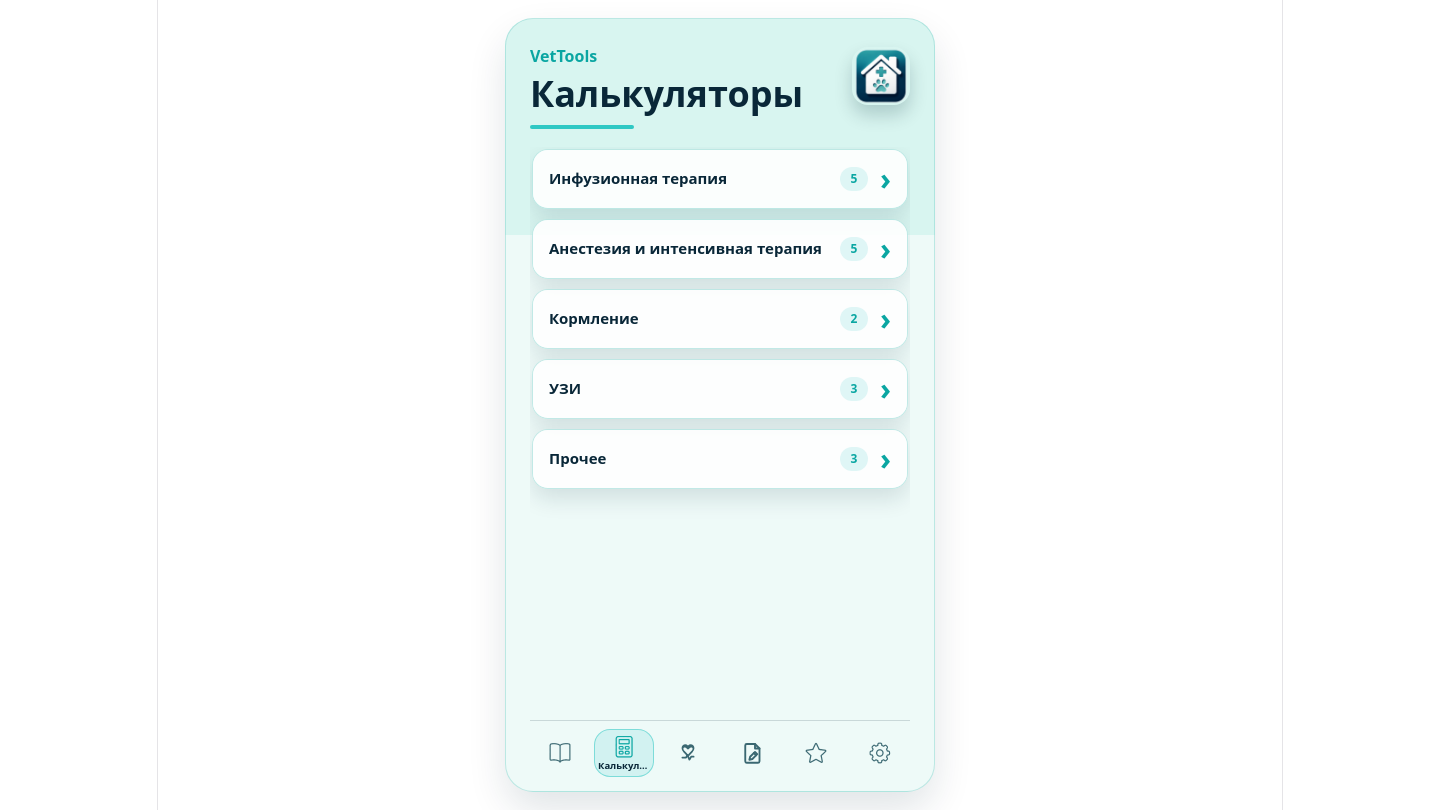
App routes › renders redesigned home page by /home route without replacing the root draft
Expected: the heading "Калькуляторы" is shown, [530, 76, 780, 129]
Expected: the link named "Справочник" is shown, [548, 741, 572, 765]
Step 1. Click the button "Инфузионная терапия 5 ›" → (720, 179), box [533, 150, 907, 208]
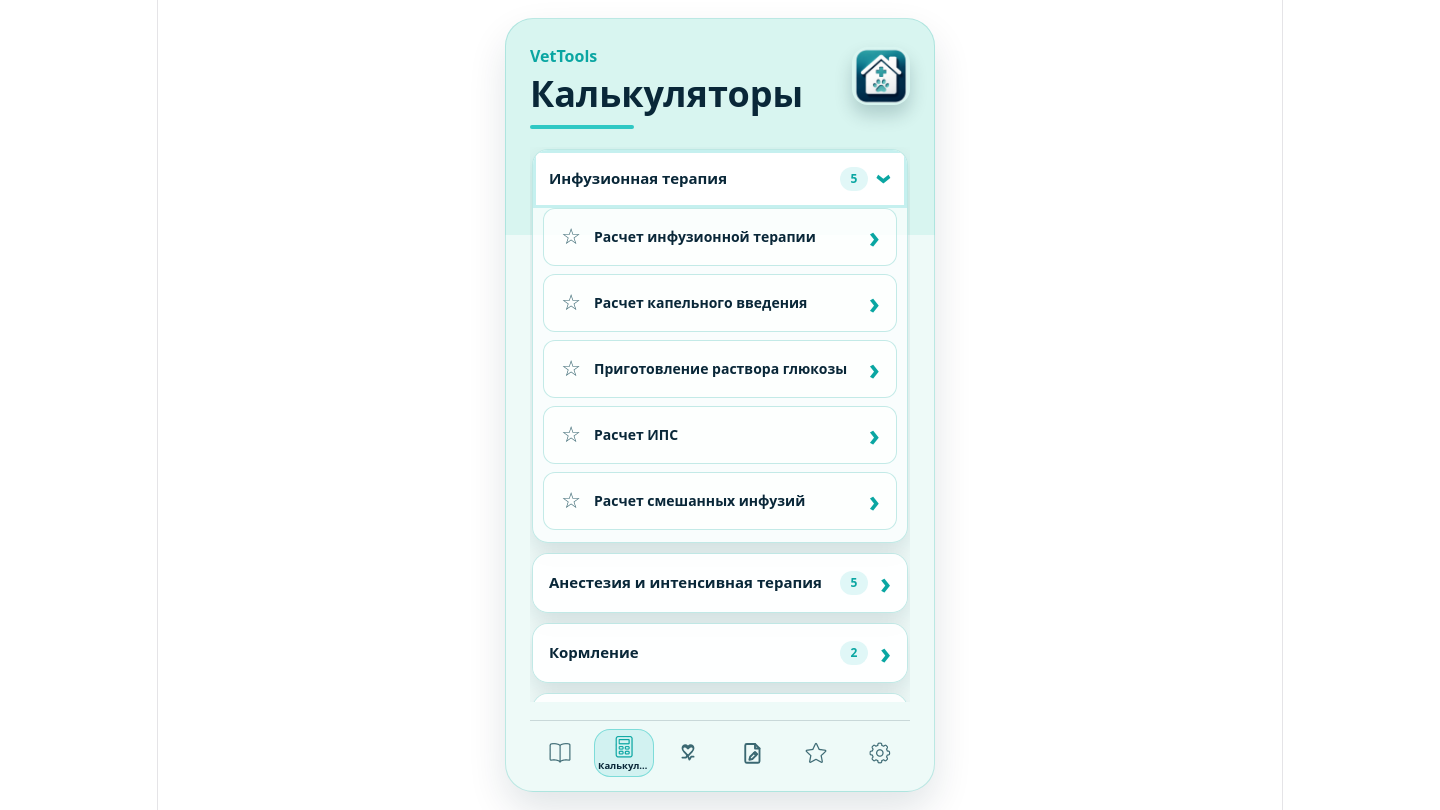
Now the link "Расчет инфузионной терапии ›" is shown, box [594, 215, 888, 259]
Now the link "Расчет ИПС ›" is shown, box [594, 413, 888, 457]
Step 2. Click the button "Анестезия и интенсивная терапия 5 ›" → (720, 583), box [533, 554, 907, 612]
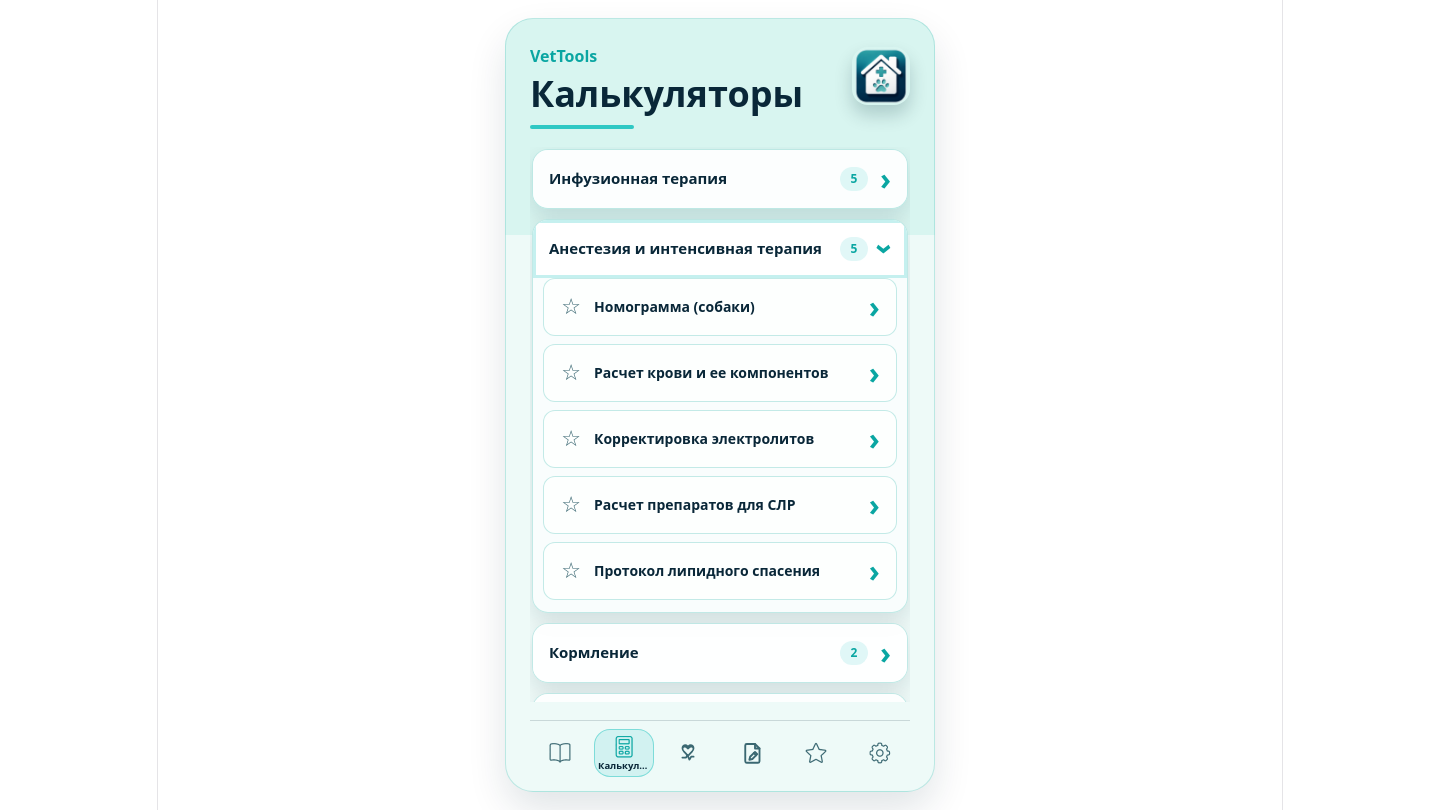
Now the link "Номограмма (собаки) ›" is shown, box [594, 285, 888, 329]
Now the link "Корректировка электролитов ›" is shown, box [594, 417, 888, 461]
